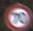Speed Limit -70-: (0, 0, 32, 30)
